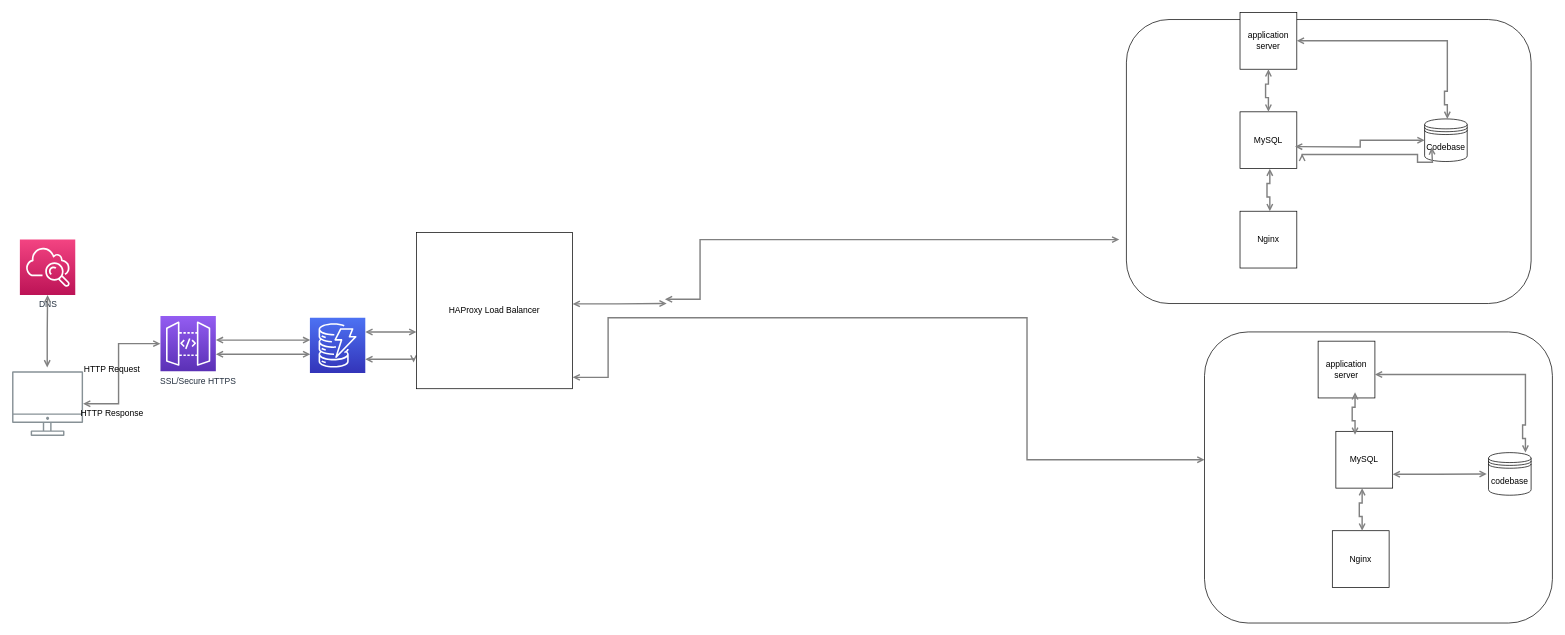
The diagram is 1565 pixels wide and 635 high, and some of its shapes have lost their labels. The shapes that lost their labels are listed below. From the top down, each one's centre as x and y in pixels, then its label:
At (337,345): "Firewall".
At (47,403): "Client/User".
